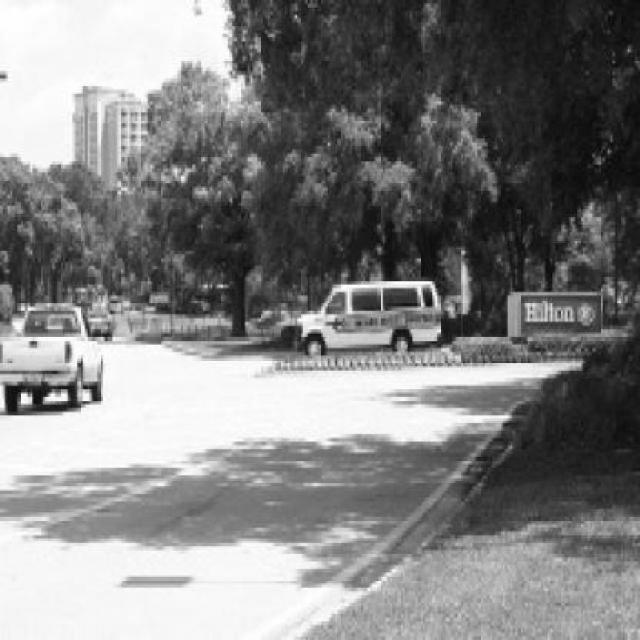Van: (297, 281, 441, 355)
